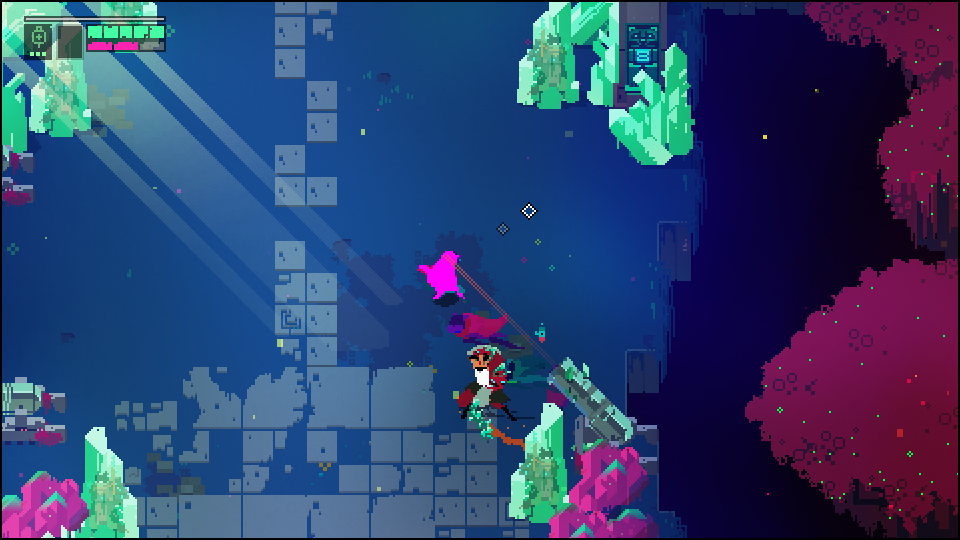hanged_man: (456, 340, 518, 443)
player: (418, 253, 467, 301)
